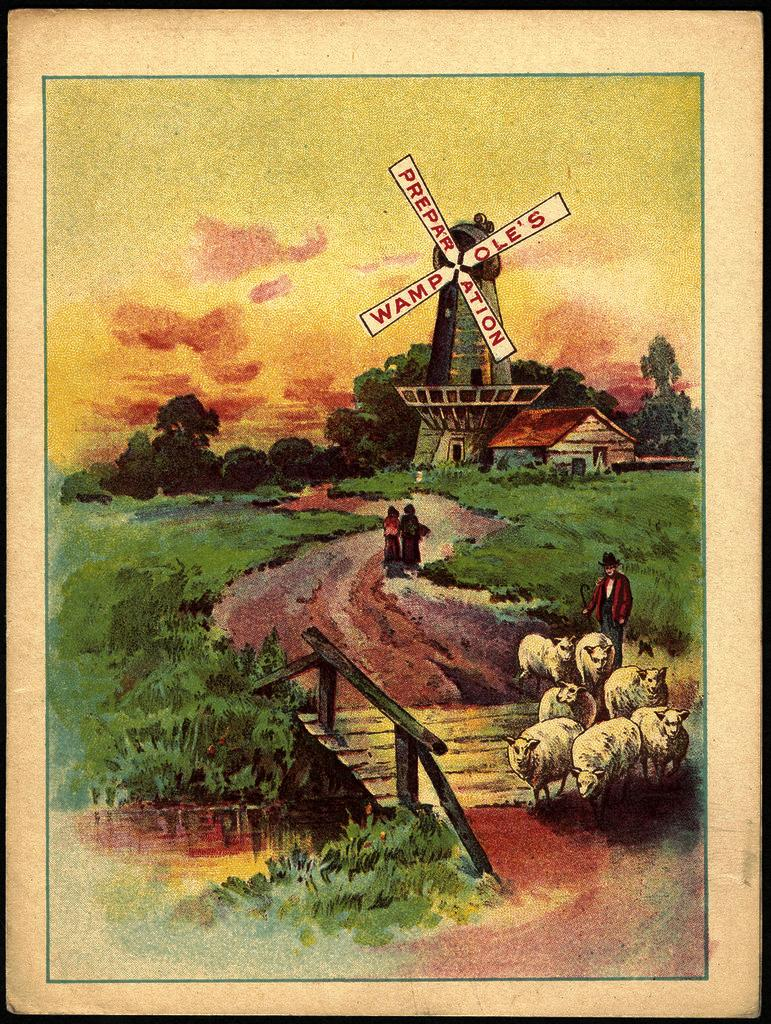Sheep: (504, 718, 584, 802), (570, 717, 643, 802), (633, 706, 689, 776), (604, 666, 668, 713), (517, 634, 574, 683), (538, 683, 595, 724), (575, 632, 617, 684)
